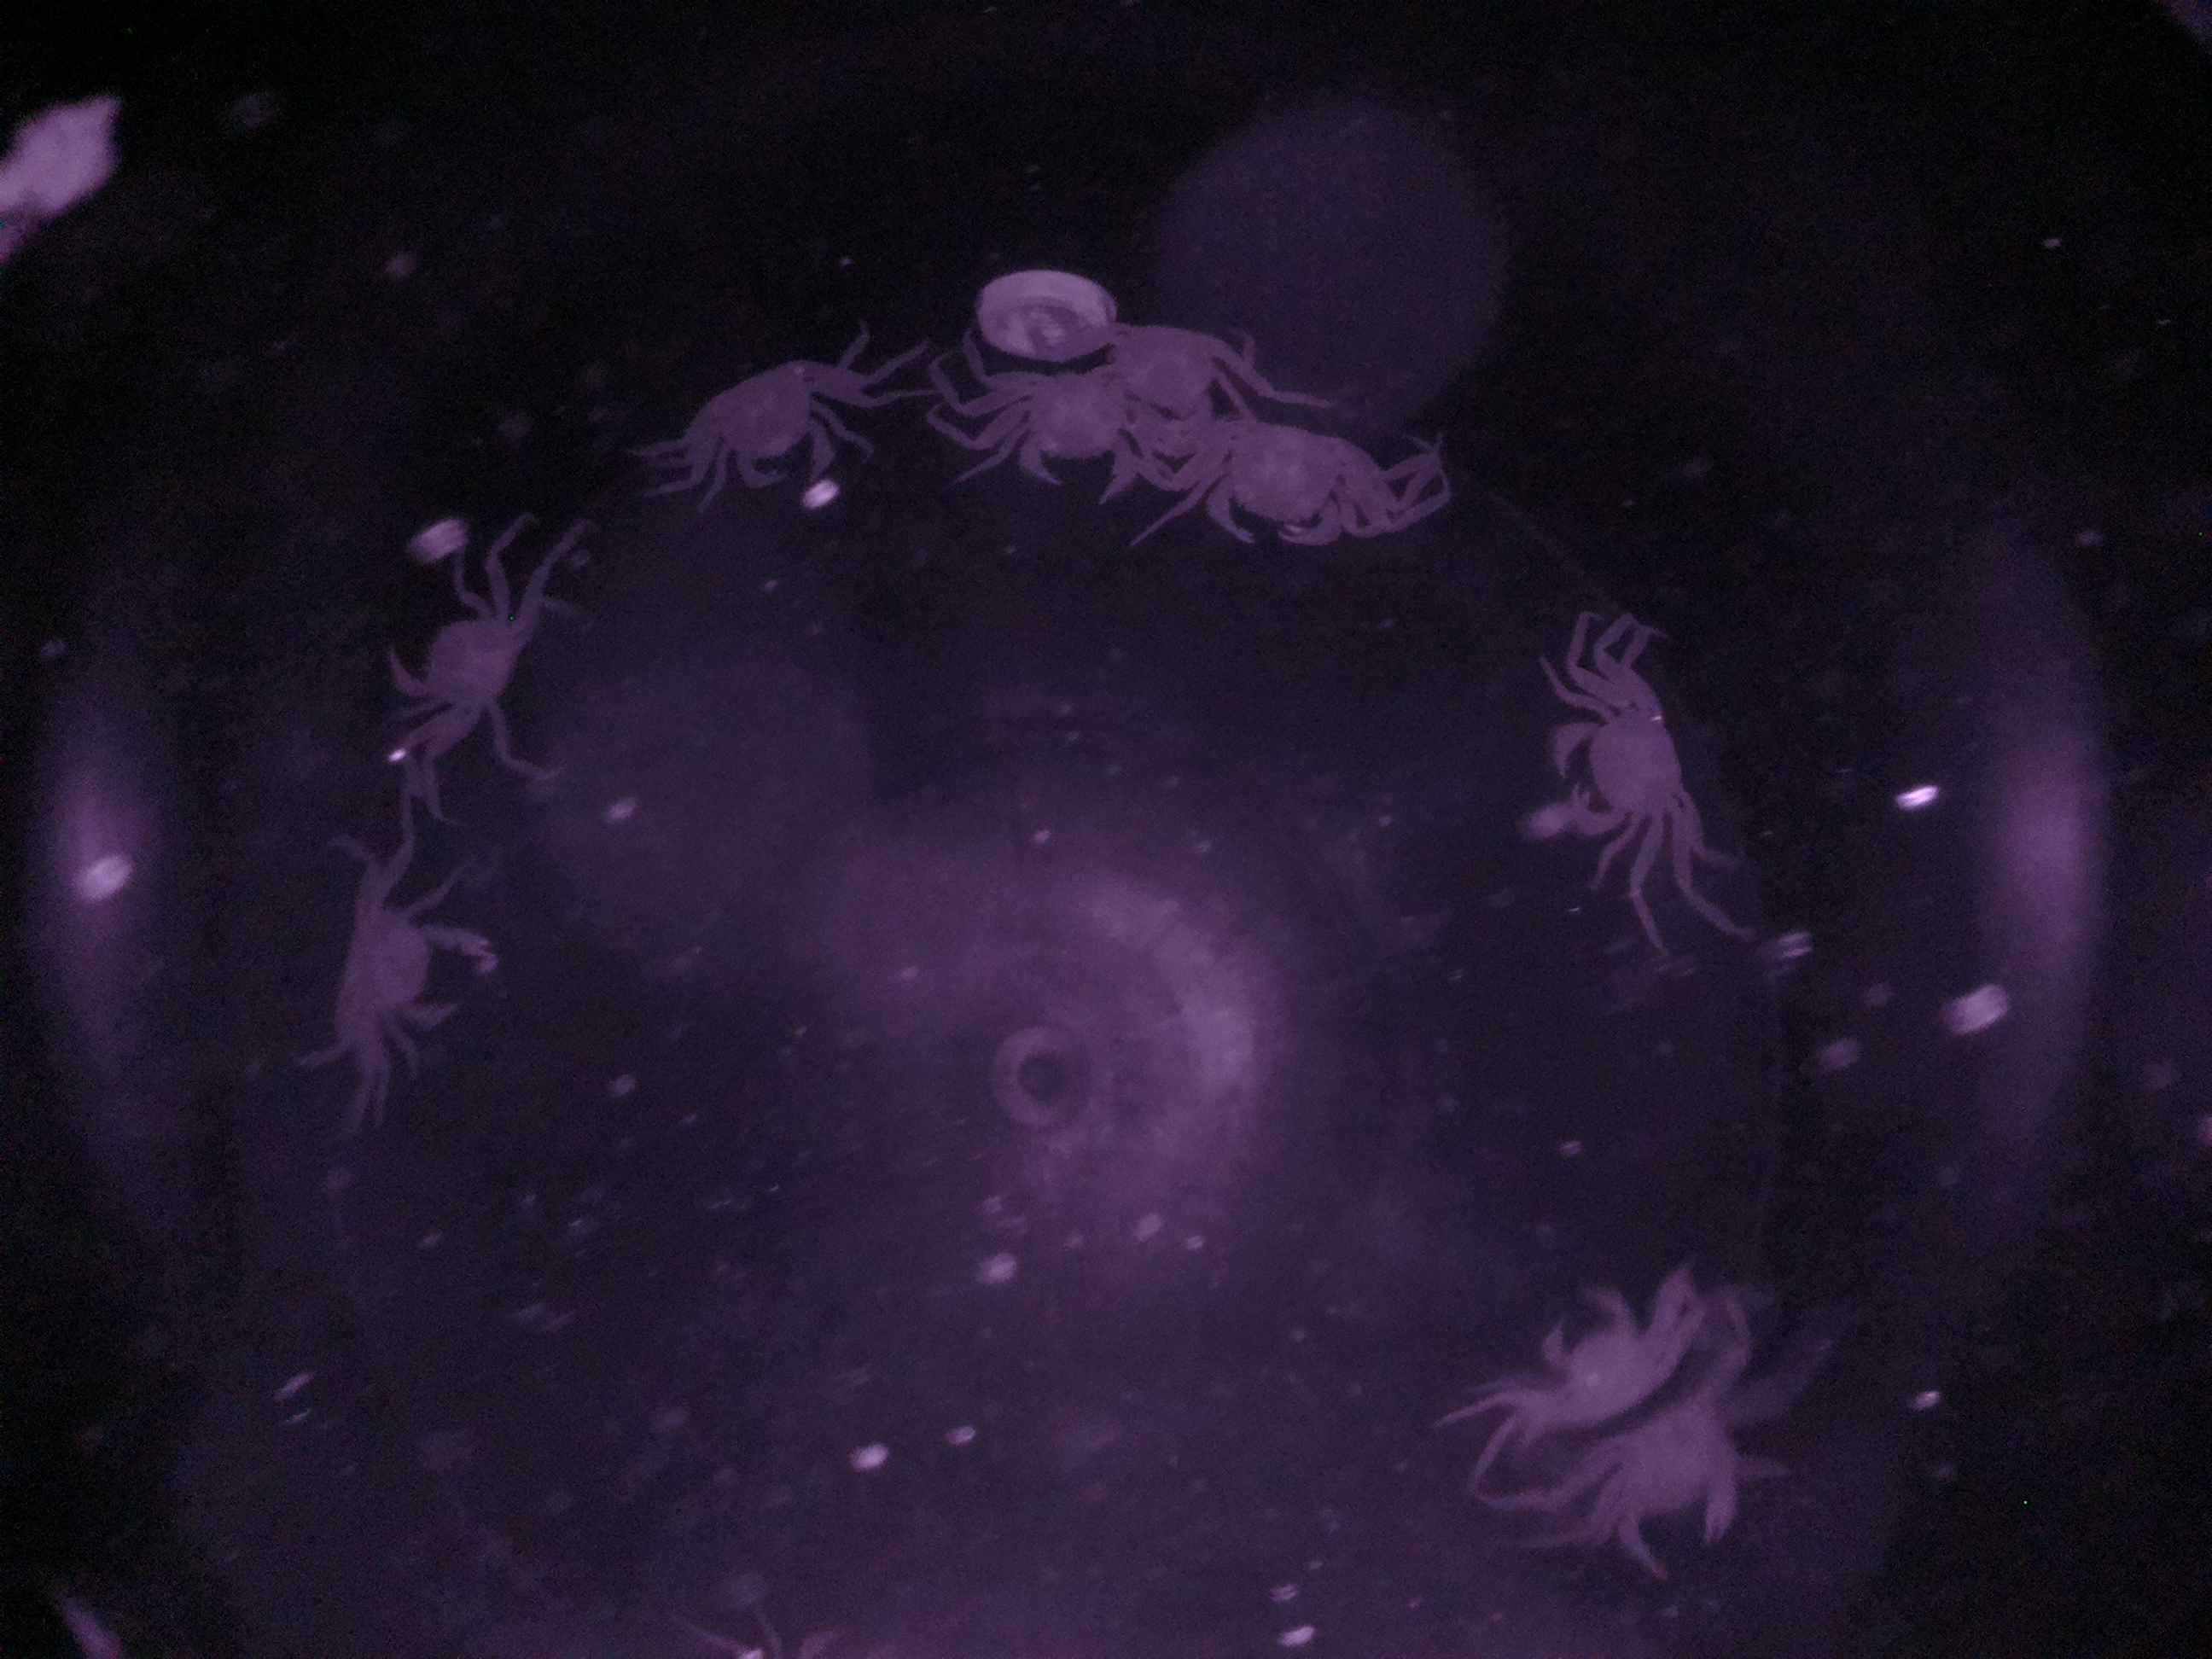Crab: (1522, 662, 1735, 871), (308, 897, 536, 1070), (1184, 392, 1381, 570), (683, 345, 874, 509)
